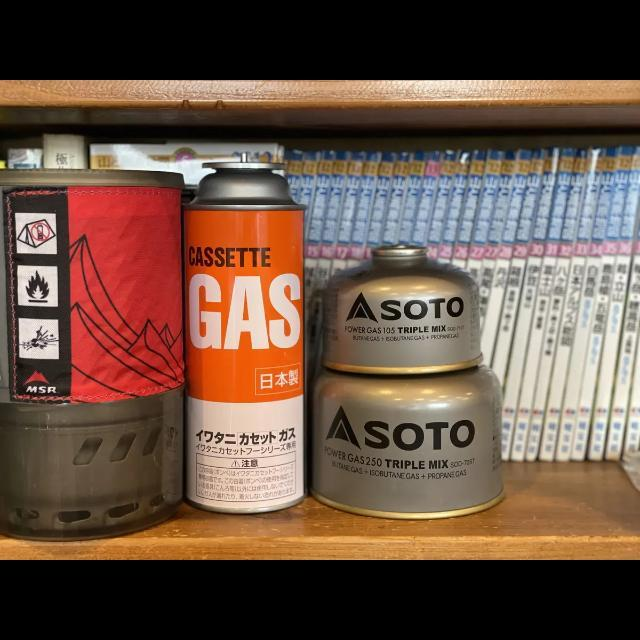chemical_spray_can: (185, 160, 305, 513)
